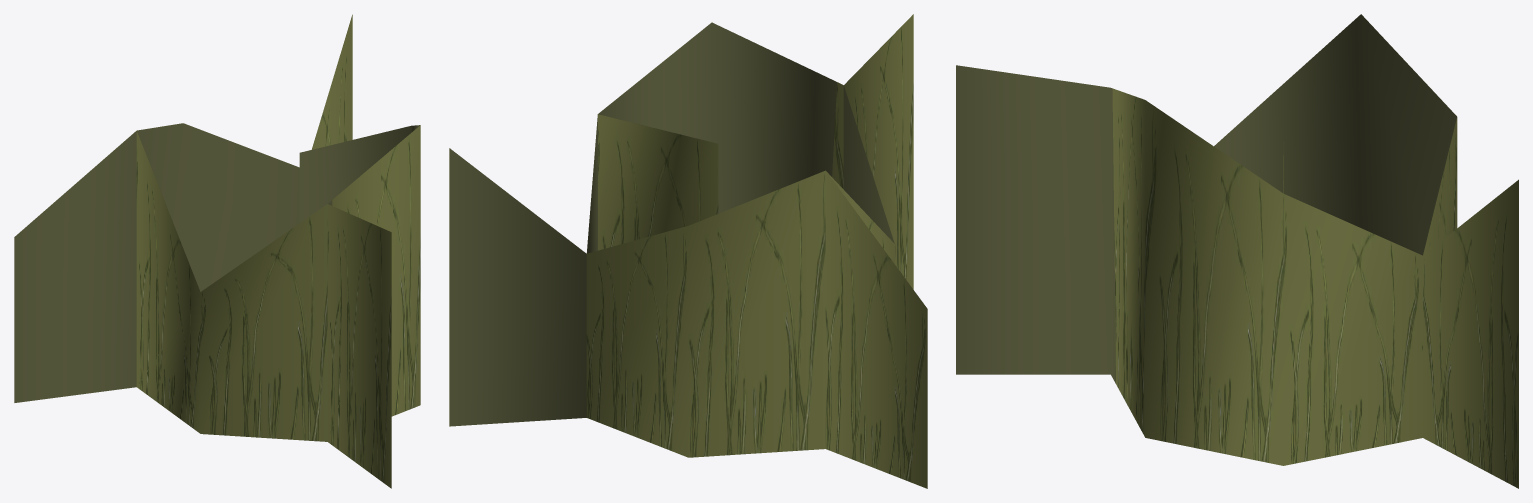
Rendered from mveg1at.glb.
3 views of the same model, side by side, from view 1: azimuth 30°, elevation 25°; view 2: azimuth 150°, elevation 25°; view 3: azimuth 270°, elevation 25° (orthographic). The views are drawn at different scales.
Visible parts, largest first — view 1: 01 Mesh0, 01 Mesh0.001; view 2: 01 Mesh0, 01 Mesh0.001; view 3: 01 Mesh0, 01 Mesh0.001.
Part boxes in pixels (x1=…): 01 Mesh0: x1=20, y1=14, x2=420, y2=488; 01 Mesh0.001: x1=14, y1=123, x2=419, y2=402; 01 Mesh0: x1=449, y1=14, x2=927, y2=488; 01 Mesh0.001: x1=449, y1=22, x2=894, y2=426; 01 Mesh0: x1=1042, y1=14, x2=1518, y2=488; 01 Mesh0.001: x1=956, y1=14, x2=1456, y2=382.
Bounding box in the file's own units: 15.27 × 10.5 × 15.85.
2 materials, 1 textured.
